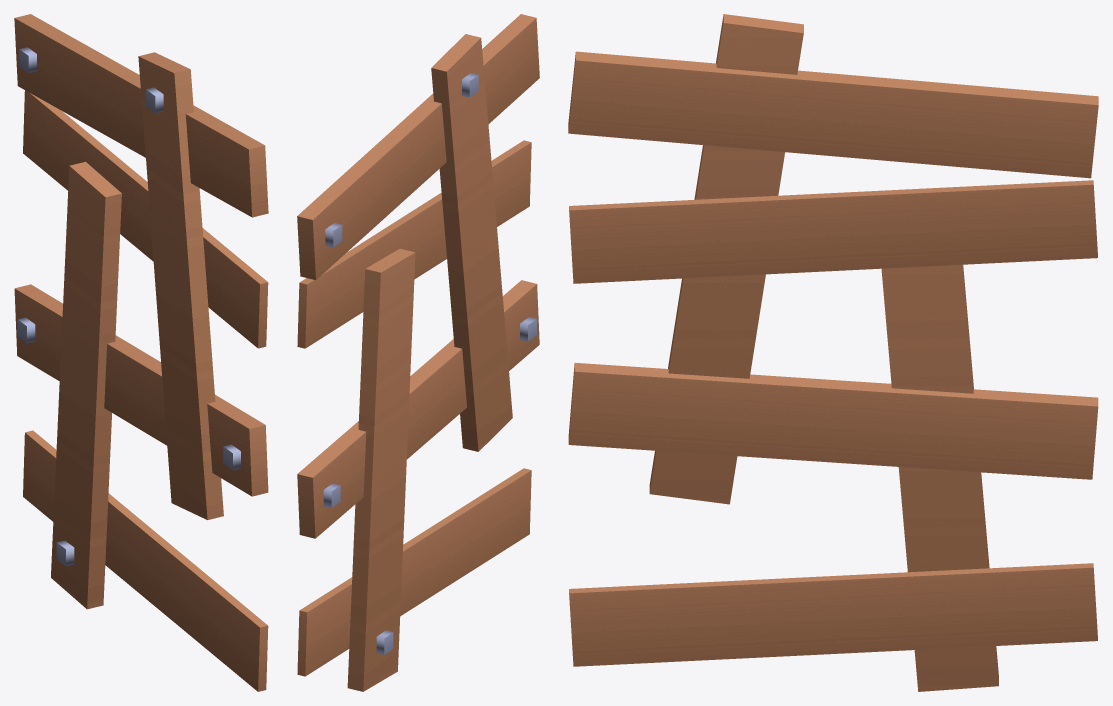
The model's file is barricade-doorway-c.glb.
The picture shows the model from 3 angles, left to right: view 1: azimuth 30°, elevation 25°; view 2: azimuth 150°, elevation 25°; view 3: azimuth 270°, elevation 25°; orthographic projection. The views are drawn at different scales.
Visible parts, largest first — view 1: barricade-doorway-c; view 2: barricade-doorway-c; view 3: barricade-doorway-c.
Boxes of the visible parts, <box> form: barricade-doorway-c: <box>14,14,268,691</box>; barricade-doorway-c: <box>297,14,539,691</box>; barricade-doorway-c: <box>568,14,1098,691</box>.
Size of the model in its own units: 0.1 by 1.75 by 1.26.
1 material, 1 textured.
